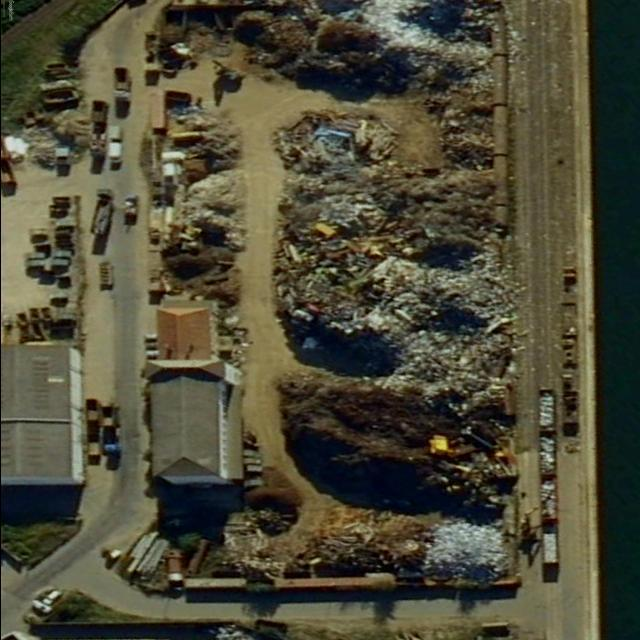dump_site: (280, 108, 495, 377), (427, 524, 505, 582)
